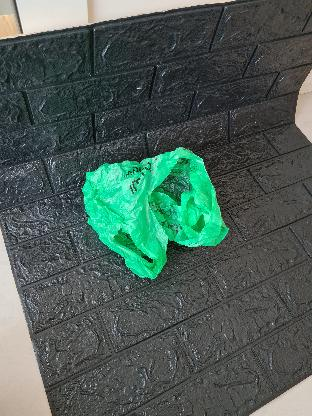Plastic Bag: (82, 147, 228, 278)
